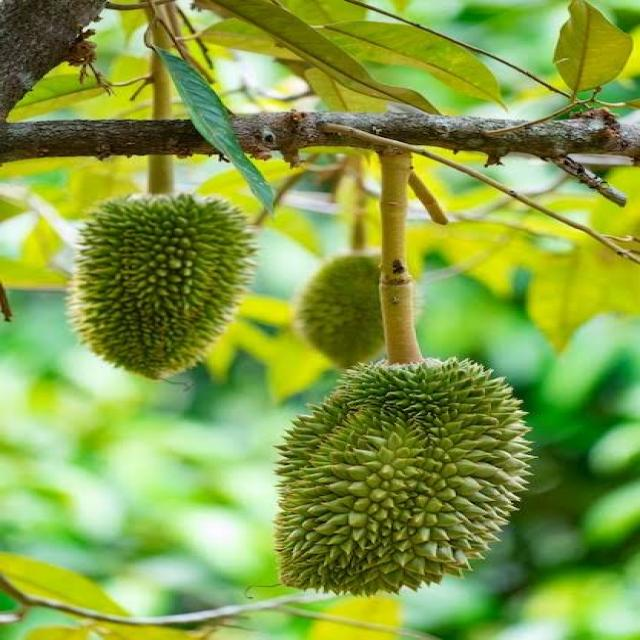immature: (274, 351, 539, 595), (70, 192, 258, 384), (288, 250, 427, 372)
